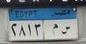1: (28, 23, 32, 36)
2: (11, 22, 18, 37)
3: (34, 23, 42, 37)
8: (19, 23, 26, 37)
meem: (51, 22, 59, 37)
seen: (61, 23, 71, 36)
